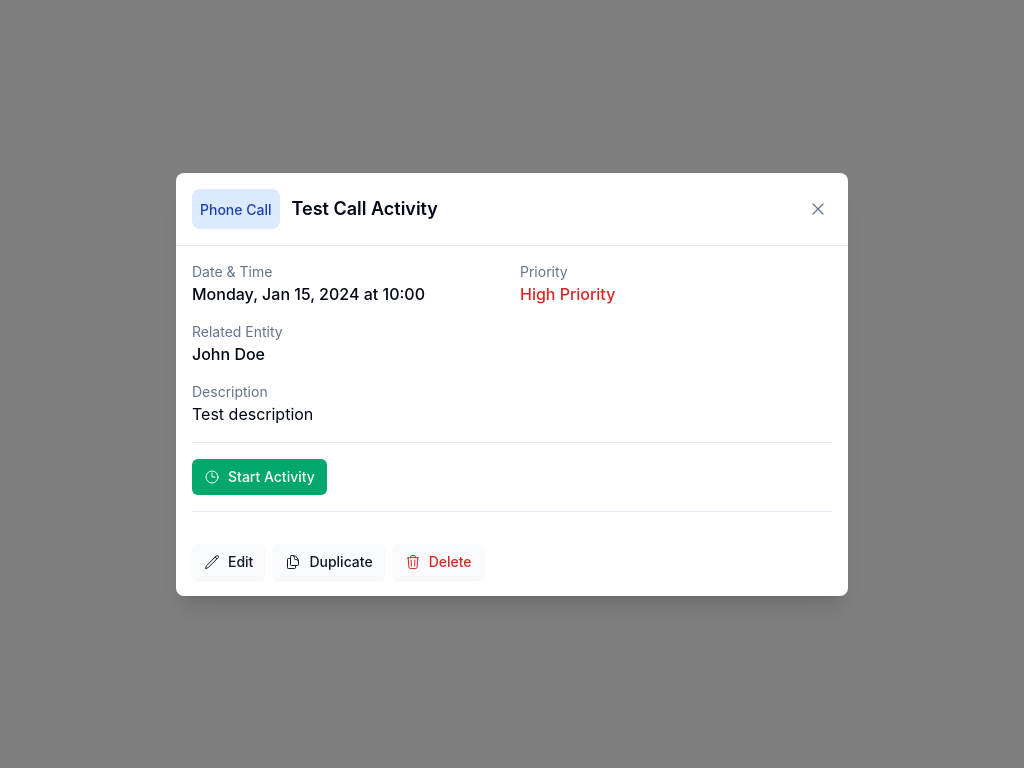
Test: ActivityDetails › should show delete confirmation when Delete button is clicked
Click the button "Delete": (438, 562) left=393, top=544, right=484, bottom=580
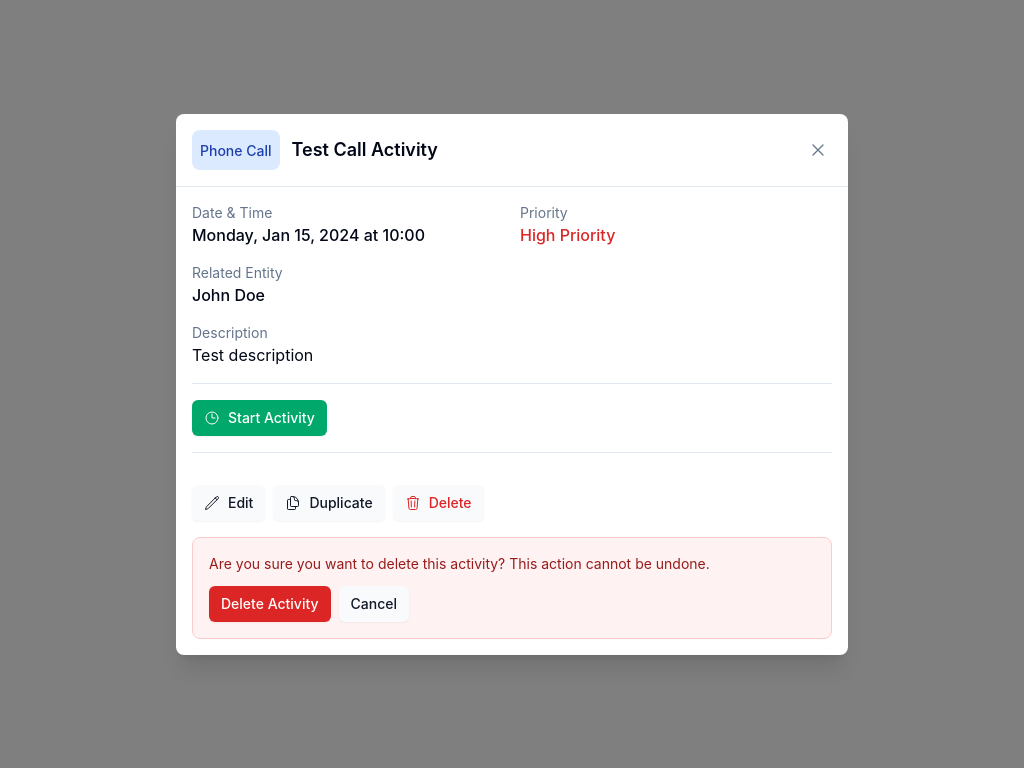
expect the text "Are you sure you want to delete this activity? This action cannot be undone." is shown: met, box left=209, top=554, right=710, bottom=572
expect the button "Delete Activity" is shown: met, box left=209, top=586, right=330, bottom=622
